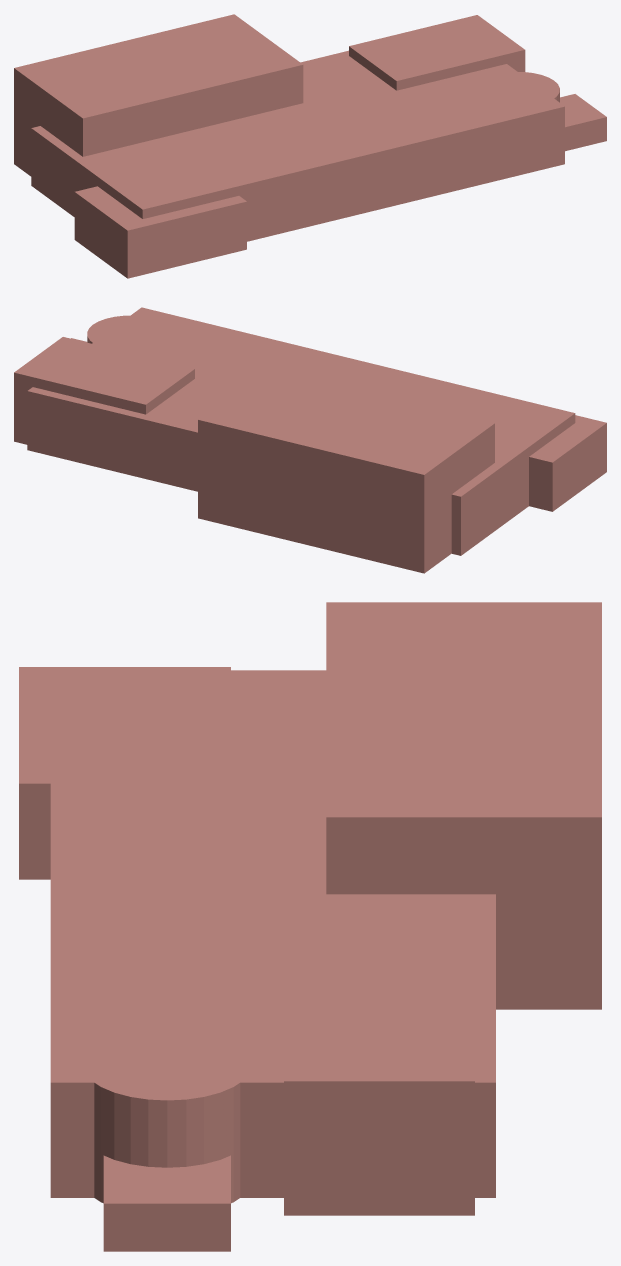
File: schwitzer_v3.gltf
3 views of the same model, one above another, from view 1: azimuth 30°, elevation 25°; view 2: azimuth 150°, elevation 25°; view 3: azimuth 270°, elevation 25° (orthographic). The views are drawn at different scales.
Parts seen in each view (by area): view 1: SchwitzerStudentCenter_proxy; view 2: SchwitzerStudentCenter_proxy; view 3: SchwitzerStudentCenter_proxy.
Part boxes in pixels (x1=…): SchwitzerStudentCenter_proxy: x1=14, y1=14, x2=606, y2=278; SchwitzerStudentCenter_proxy: x1=14, y1=307, x2=606, y2=573; SchwitzerStudentCenter_proxy: x1=19, y1=602, x2=601, y2=1251.
Size of the model in its own units: 109 by 20 by 55.
